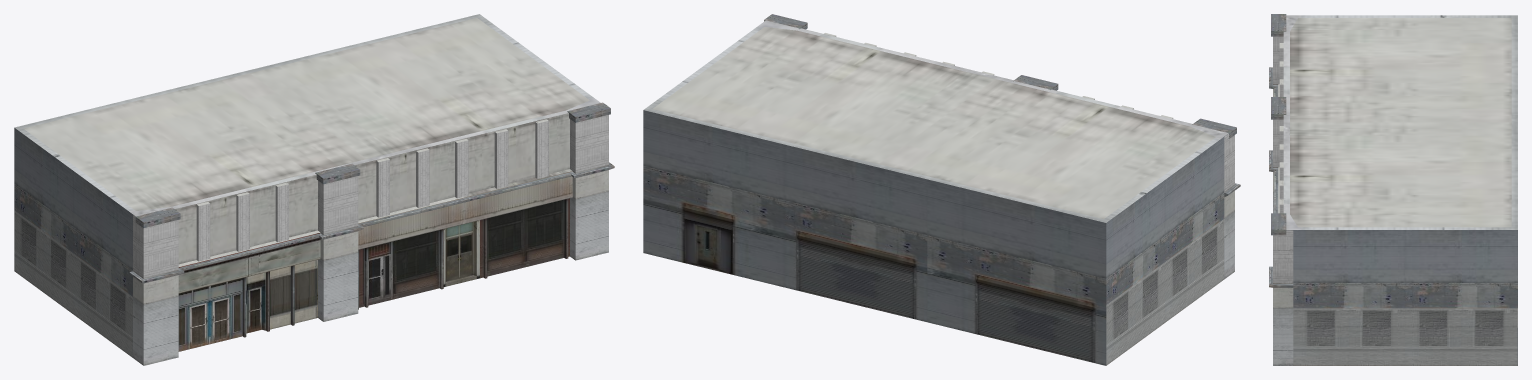
The model's file is o3_edificio_fondo_2.glb.
3 renders of one model, left to right at view 1: azimuth 30°, elevation 25°; view 2: azimuth 150°, elevation 25°; view 3: azimuth 270°, elevation 25°, orthographic. The views are drawn at different scales.
Visible parts, largest first — view 1: sb_modello; view 2: sb_modello; view 3: sb_modello.
Part boxes in pixels (<box>): sb_modello: <box>14,14,614,365</box>; sb_modello: <box>643,14,1240,365</box>; sb_modello: <box>1269,14,1517,365</box>.
Bounding box in the file's own units: 24.02 × 7.02 × 11.59.
2 materials, 2 textured.
